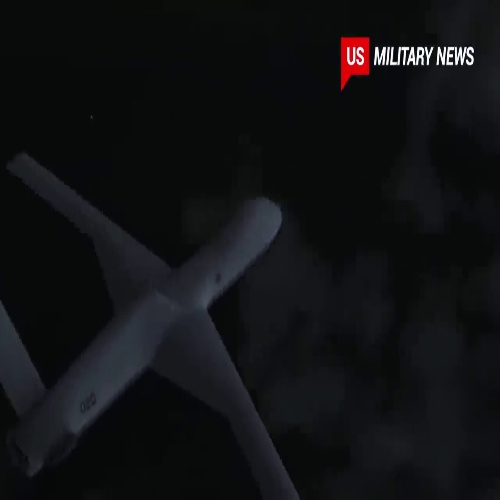uav: (1, 151, 293, 500)
